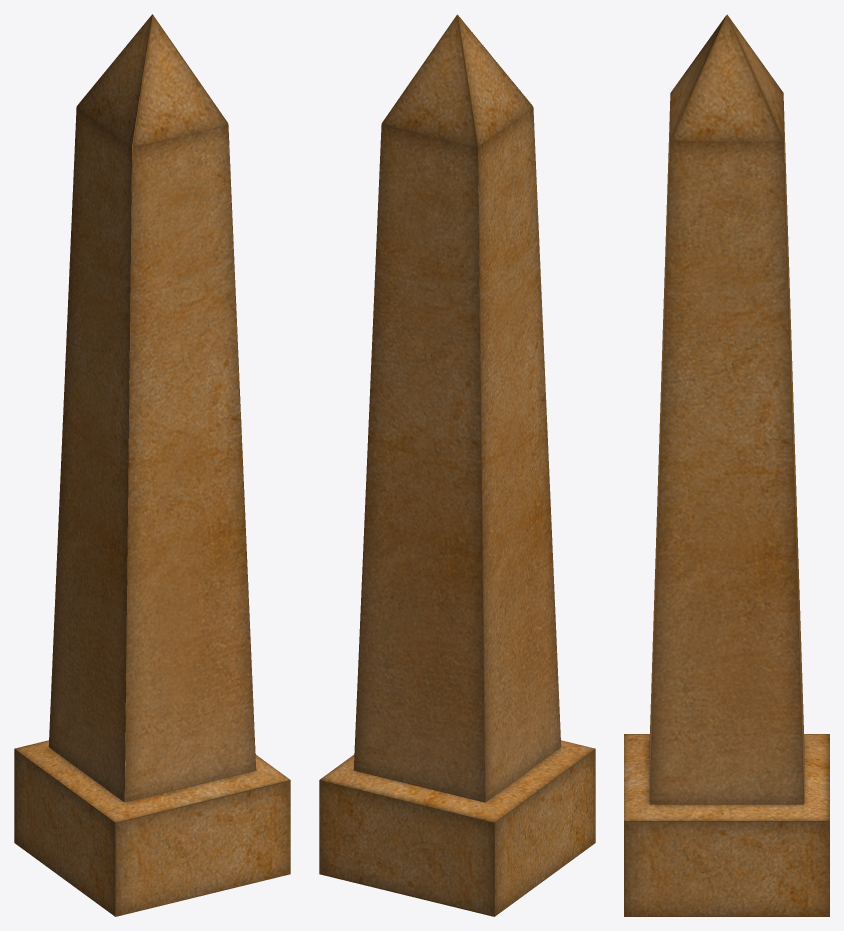
File: obelix.fbx
3 views of the same model, side by side, from view 1: azimuth 30°, elevation 25°; view 2: azimuth 150°, elevation 25°; view 3: azimuth 270°, elevation 25° (orthographic).
Parts seen in each view (by area): view 1: pCube1; view 2: pCube1; view 3: pCube1.
Part boxes in pixels (x1=…): pCube1: x1=14, y1=14, x2=290, y2=916; pCube1: x1=319, y1=14, x2=595, y2=916; pCube1: x1=624, y1=14, x2=829, y2=916.
Size of the model in its own units: 0.079 by 0.3638 by 0.079.
Materials: 1 (1 with a texture image).
